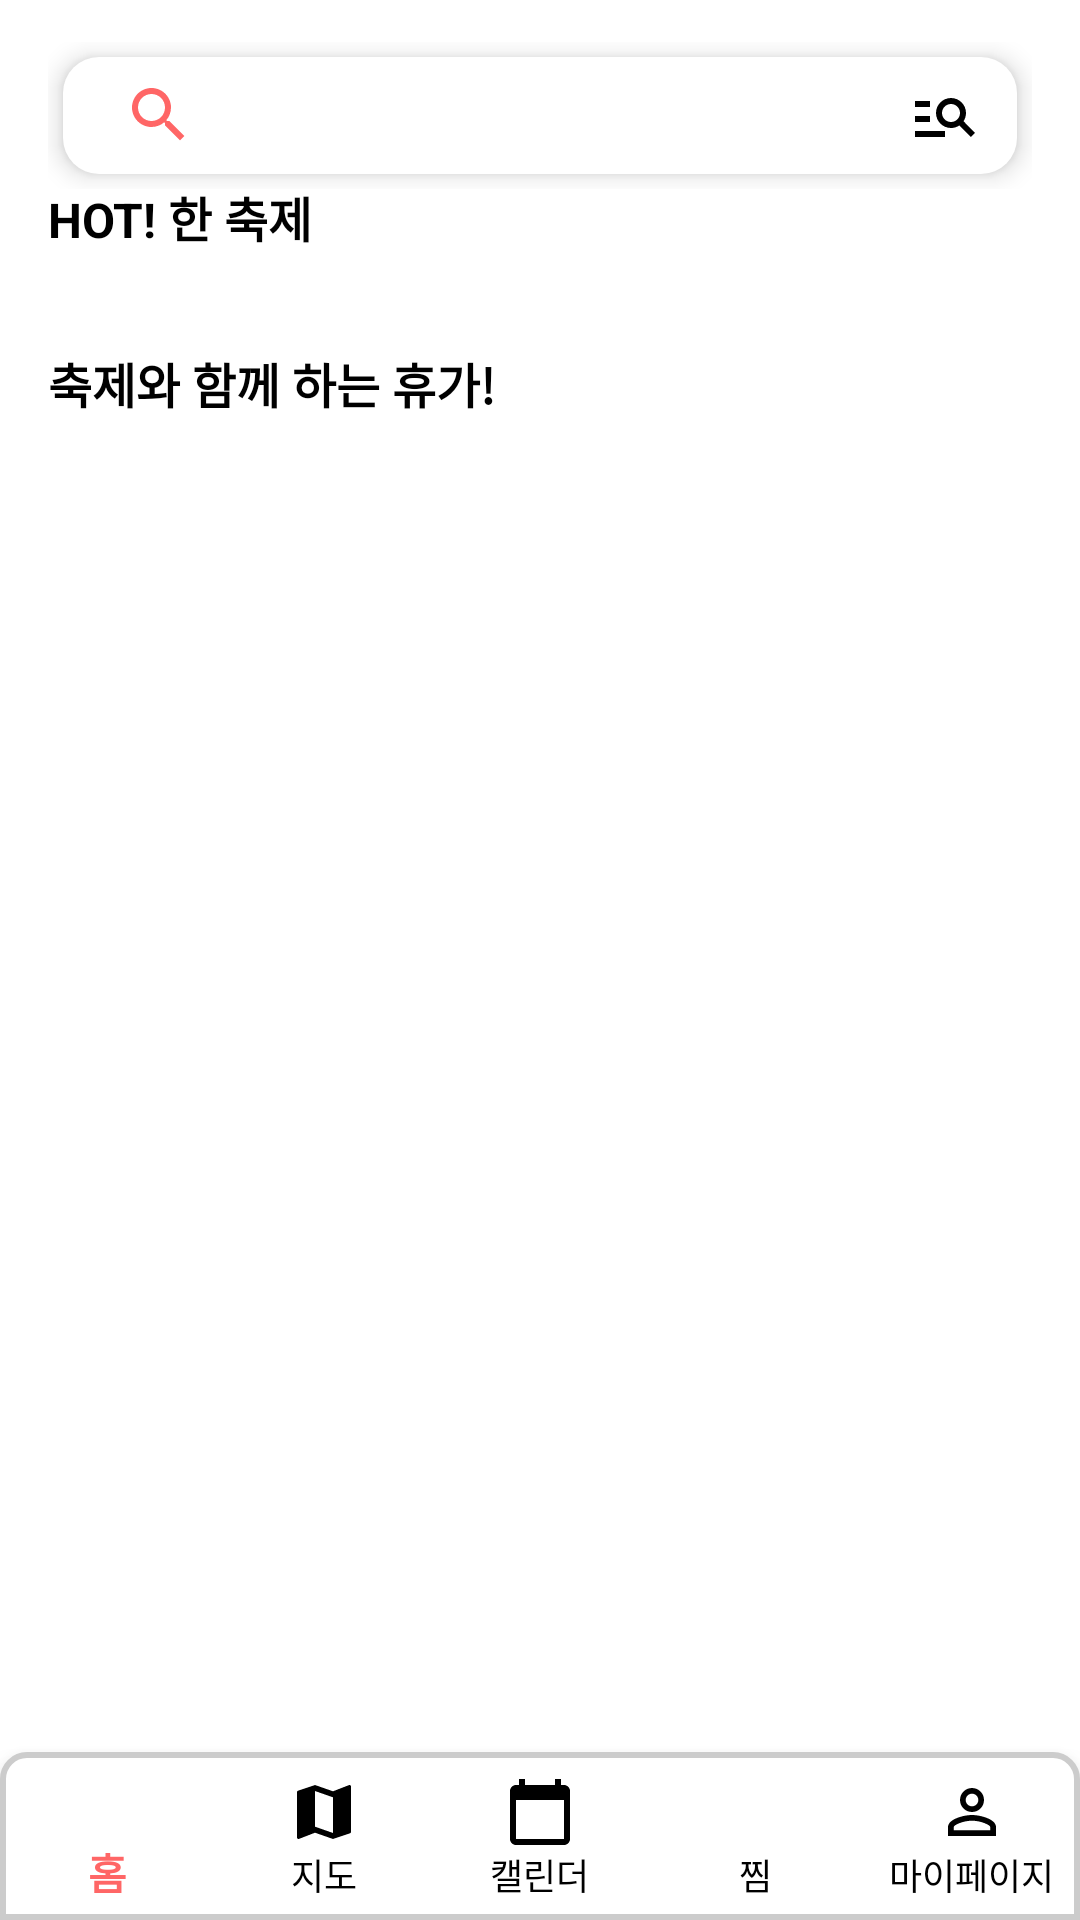

Where to tap for icons on this 1080px x 1920px app screen, as [x,y]:
search option: [945,116]
